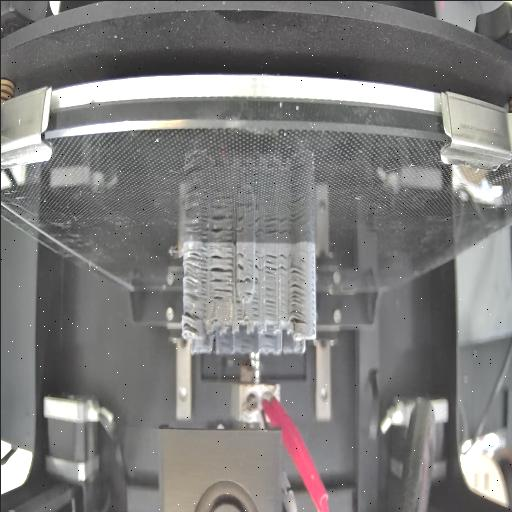cracks: (207, 244, 232, 300), (288, 256, 308, 324), (182, 250, 206, 300), (235, 249, 261, 285), (180, 307, 205, 331), (278, 248, 290, 276), (266, 285, 276, 315), (264, 252, 277, 274), (250, 294, 262, 316), (233, 298, 245, 318), (262, 330, 278, 340), (209, 316, 221, 324)
